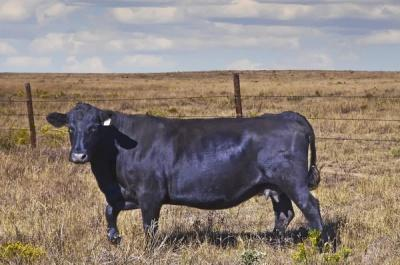buffalo: (46, 102, 322, 242)
